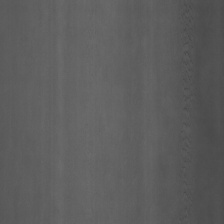silk_spot: (176, 14, 201, 146)
